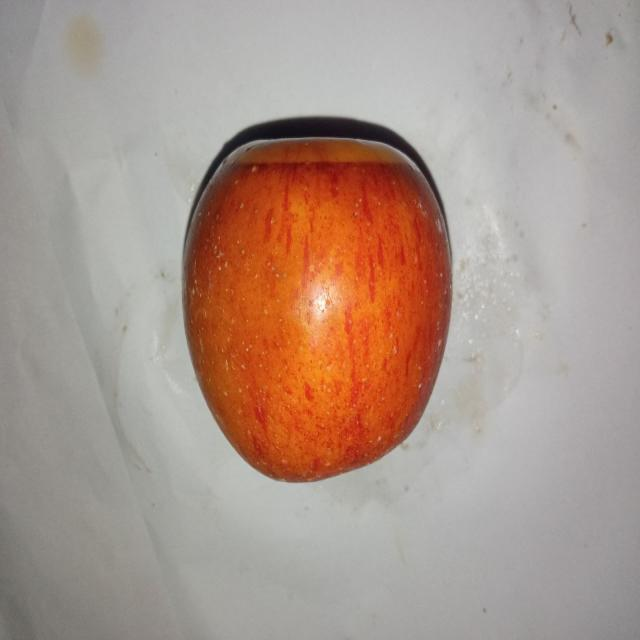fresh_apple: (182, 131, 450, 484)
